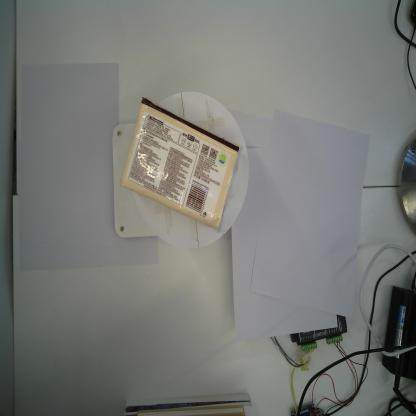Tissue: (120, 98, 239, 229)
